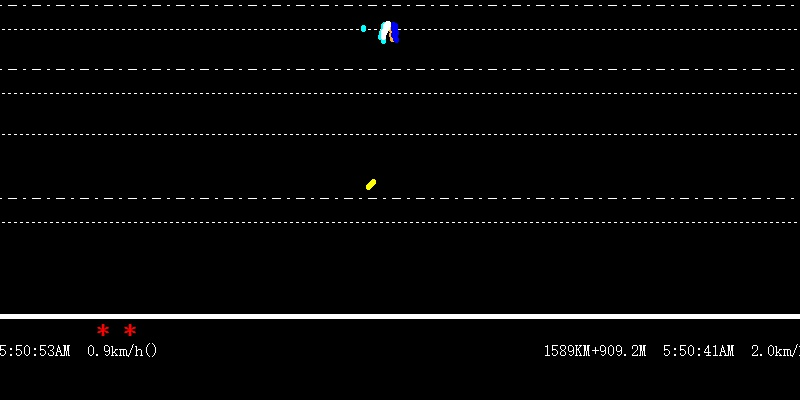face_1: (360, 22, 368, 35)
face_2: (377, 21, 399, 43)
star: (123, 321, 137, 336), (94, 322, 109, 336)
